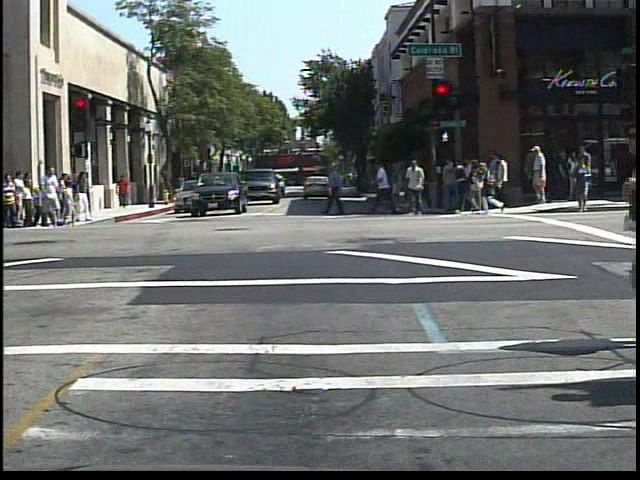person: (525, 144, 552, 207), (39, 165, 65, 230), (1, 169, 21, 230), (114, 173, 132, 210)
